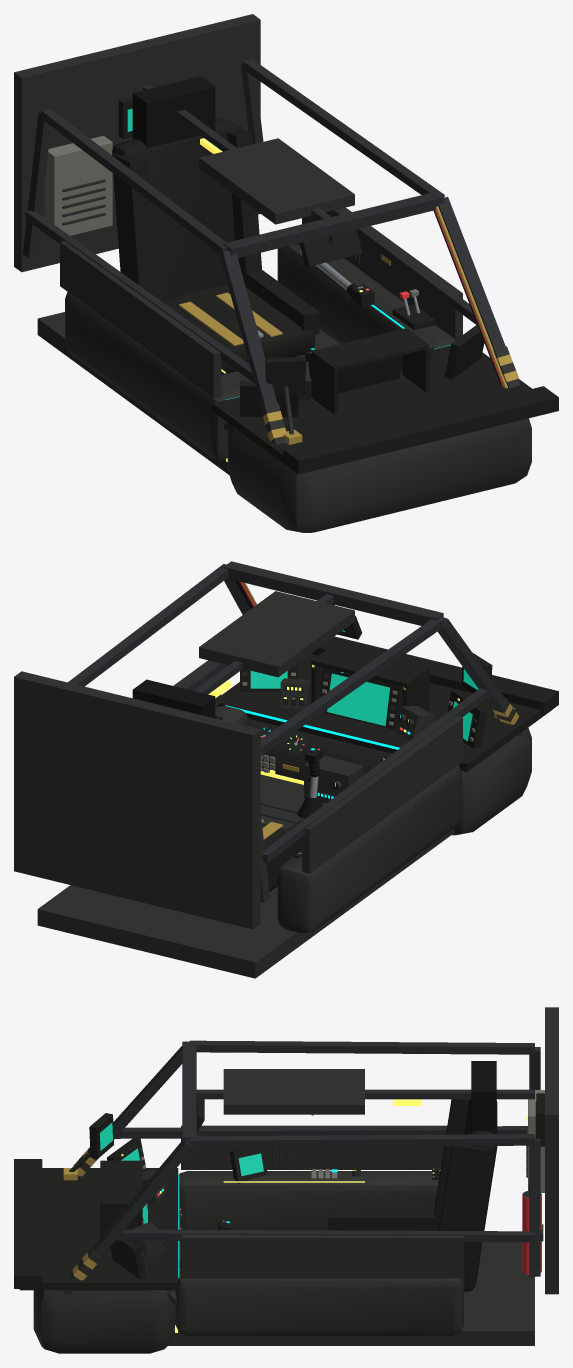
File: Cockpit_Lifter.fbx
The picture shows the model from 3 angles, top to bottom: view 1: azimuth 30°, elevation 25°; view 2: azimuth 150°, elevation 25°; view 3: azimuth 270°, elevation 25°; orthographic projection. The views are drawn at different scales.
Parts seen in each view (by area): view 1: Cockpit_Lifter; view 2: Cockpit_Lifter; view 3: Cockpit_Lifter.
Part boxes in pixels (box(x1,y1,x2,y2)): Cockpit_Lifter: box(14, 14, 558, 532); Cockpit_Lifter: box(14, 561, 558, 978); Cockpit_Lifter: box(14, 1007, 558, 1353).
Size of the model in its own units: 0.98 by 0.96 by 1.93.
